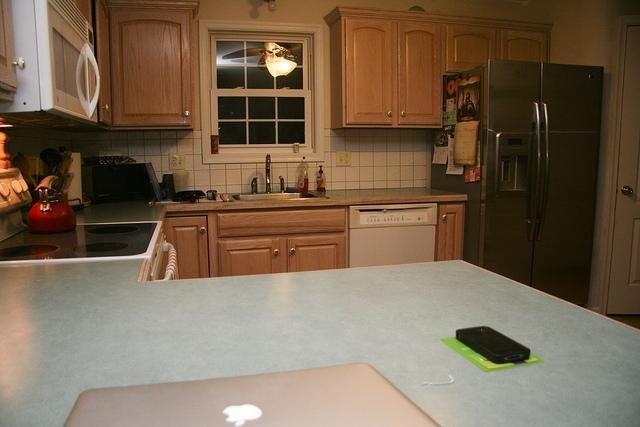apple: (223, 403, 263, 427)
